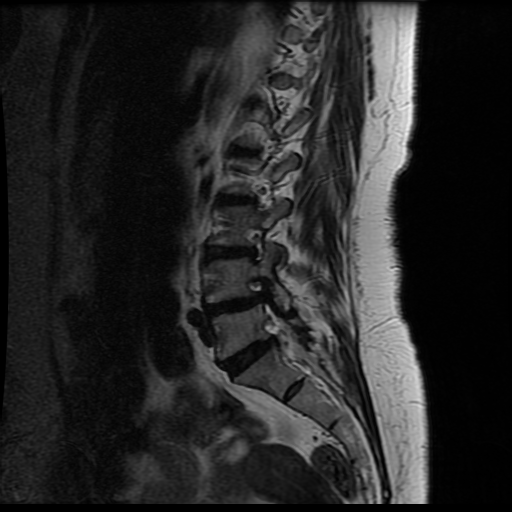LFS0: (230, 221, 276, 270)
